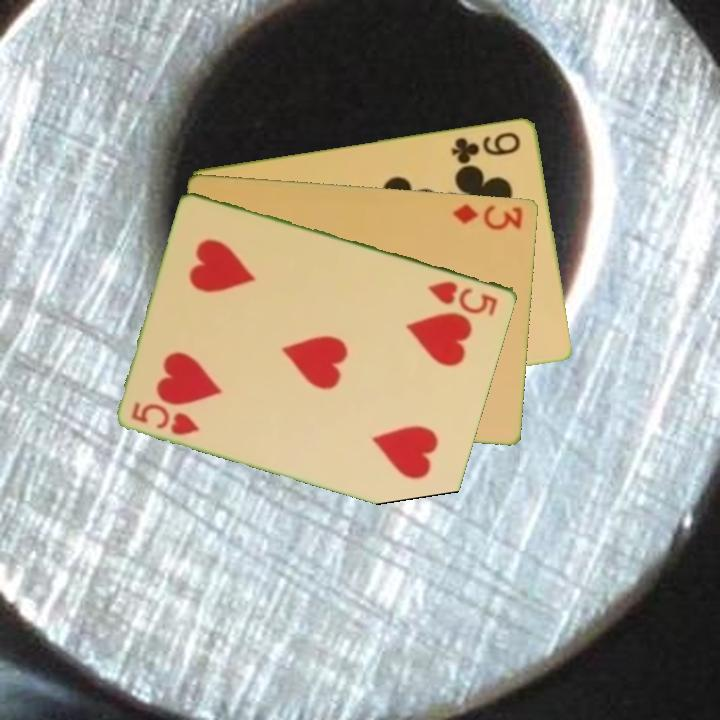3d: (449, 200, 526, 233)
5h: (425, 277, 501, 319), (128, 397, 203, 438)
9c: (448, 128, 524, 165)
